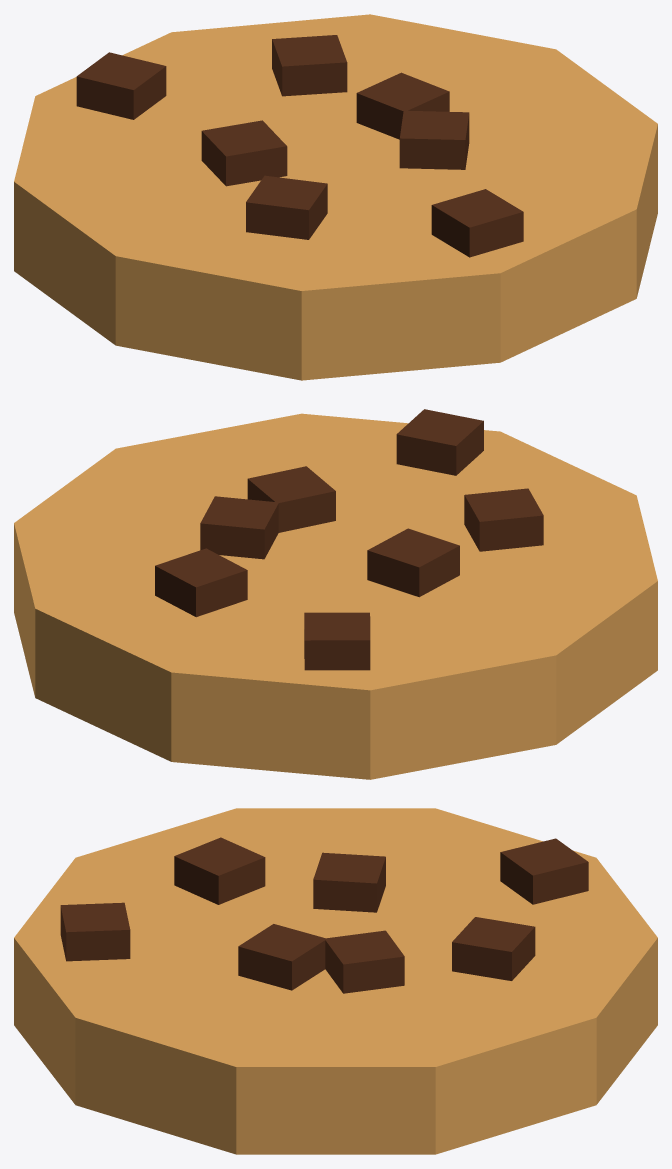
The model's file is cookie.glb.
3 renders of one model, top to bottom at view 1: azimuth 30°, elevation 25°; view 2: azimuth 150°, elevation 25°; view 3: azimuth 270°, elevation 25°, orthographic. The views are drawn at different scales.
Visible parts, largest first — view 1: cookie; view 2: cookie; view 3: cookie.
Part boxes in pixels (x1=…): cookie: x1=14, y1=14, x2=657, y2=380; cookie: x1=14, y1=409, x2=657, y2=779; cookie: x1=14, y1=808, x2=657, y2=1154.
Size of the model in its own units: 0.0761 by 0.016 by 0.08.
